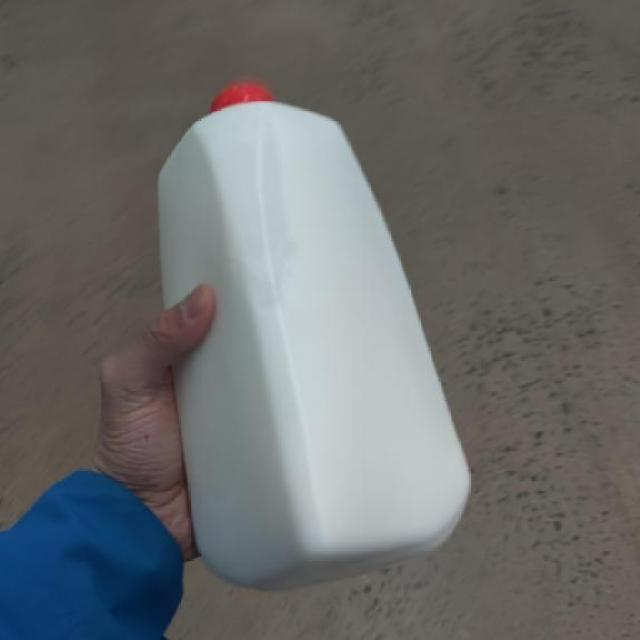Milk: (121, 67, 493, 595)
